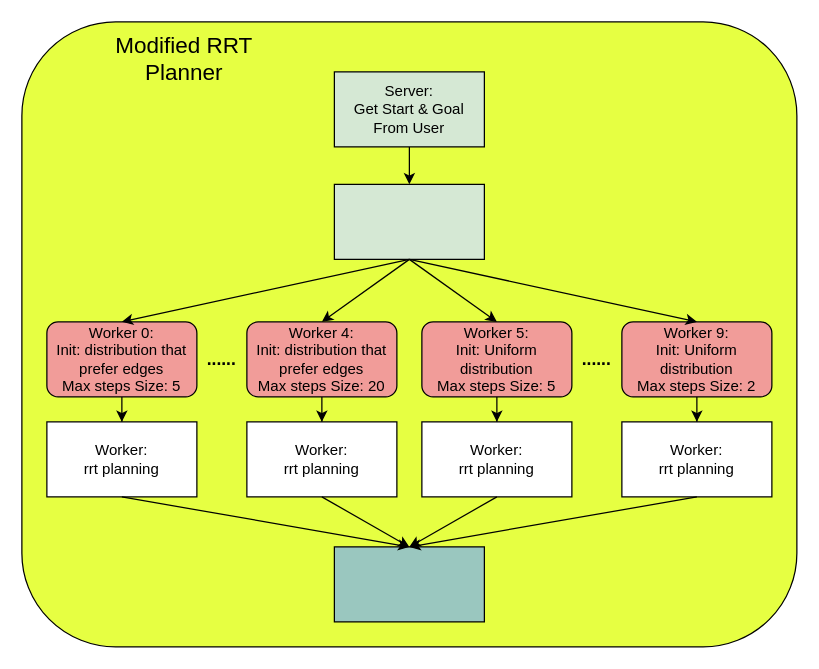
This 819x669 diagram has some shape labels left out. The shapes that lost their labels are listed below. From the top down, each one's centre as x and y in pixels, then its label:
At (x=408, y=221): "Server: Boardcast start & goal to worker planners".
At (x=408, y=584): "Server: Select optimal Path".
